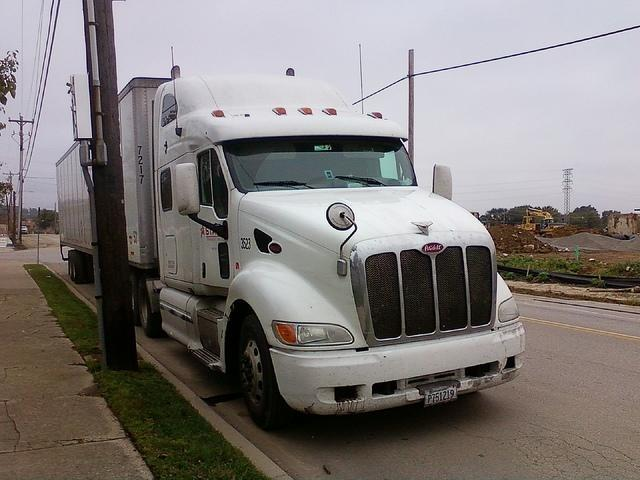car: (21, 226, 28, 234)
truck: (48, 66, 526, 432)
